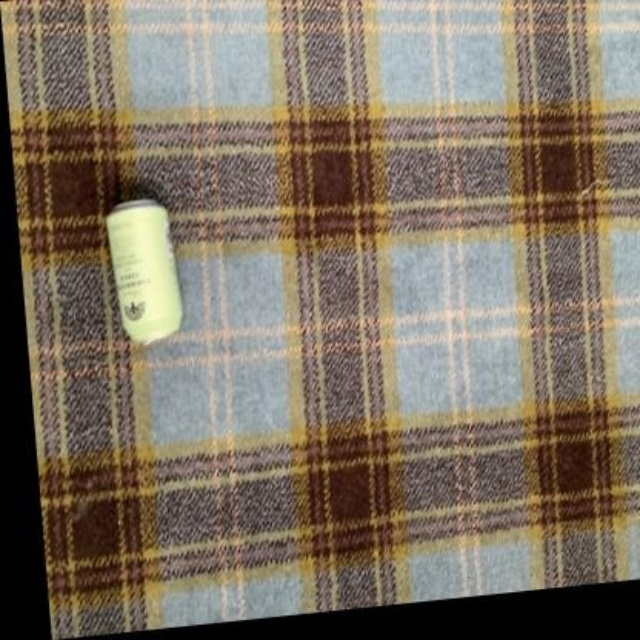trash: (106, 200, 182, 343)
